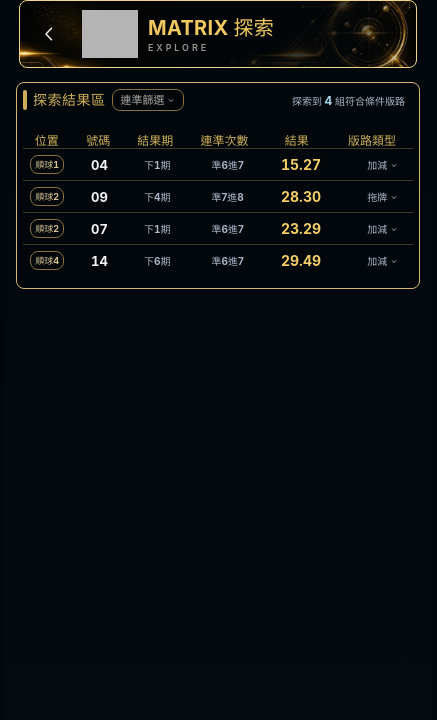
Test case: production member shell › calculates validation formula results while spacing the position token independently
This screenshot has width=437, height=720.
Click the button with aria-label "展開版路 result-09" at (377, 196), box [336, 189, 419, 204]
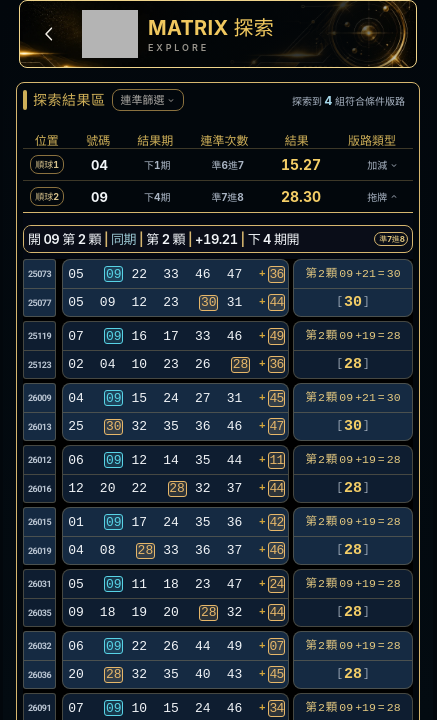
Expected: the element with class "explore-validation-formula-expression" showing "第 2 顆 09 +21 = 30" is shown, [305, 267, 401, 282]
